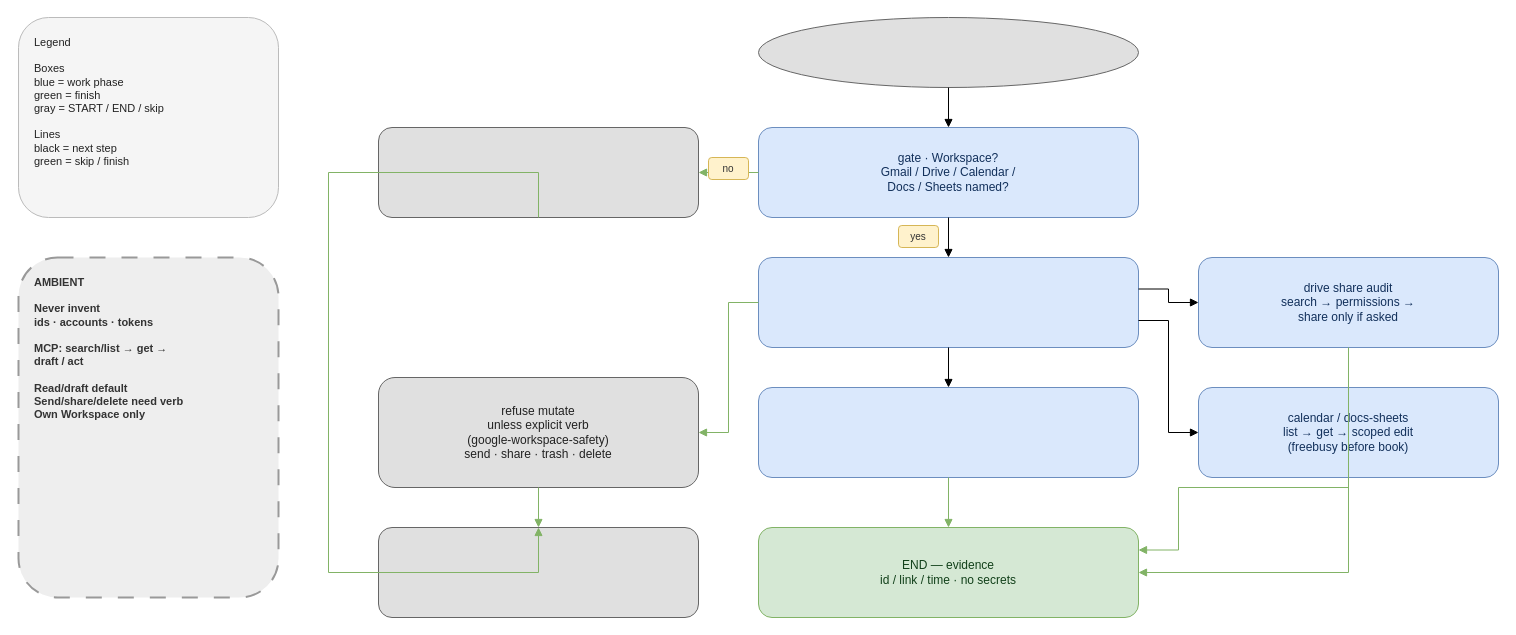
The diagram is 1516 pixels wide and 635 high, and some of its shapes have lost their labels. The shapes that lost their labels are listed below. From the top down, each one's centre as x and y in pixels, then its label:
At (948,52): "START — user ask".
At (538,172): "skip — no Workspace surface this turn".
At (948,302): "route · Gmail vs Drive vs Calendar vs Docs/Sheets vs mutate".
At (948,432): "gmail compose search → read → draft (send if verb)".
At (538,572): "END — stay out".
